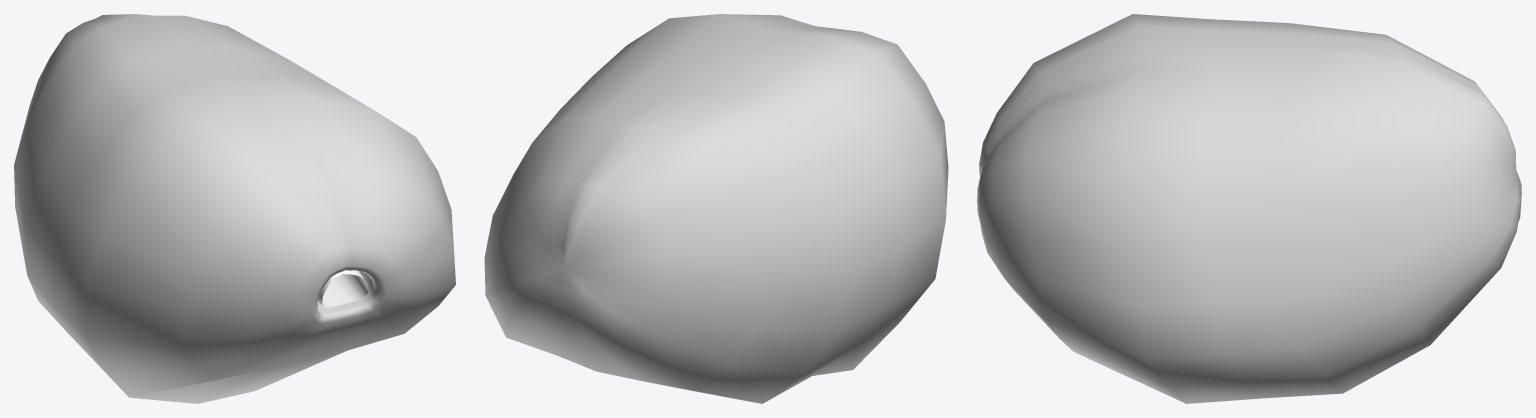
Rendered from Spawn_Point.fbx.
3 renders of one model, left to right at view 1: azimuth 30°, elevation 25°; view 2: azimuth 150°, elevation 25°; view 3: azimuth 270°, elevation 25°, orthographic. The views are drawn at different scales.
Parts seen in each view (by area): view 1: Spawn_Point, Spawn_Point_GodRay; view 2: Spawn_Point; view 3: Spawn_Point.
Part boxes in pixels (box(x1,y1,x2,y2)): Spawn_Point: box(14, 14, 455, 403); Spawn_Point_GodRay: box(317, 270, 368, 307); Spawn_Point: box(484, 14, 948, 403); Spawn_Point: box(977, 14, 1521, 403).
Bounding box in the file's own units: 74.4 × 60.73 × 92.64.
